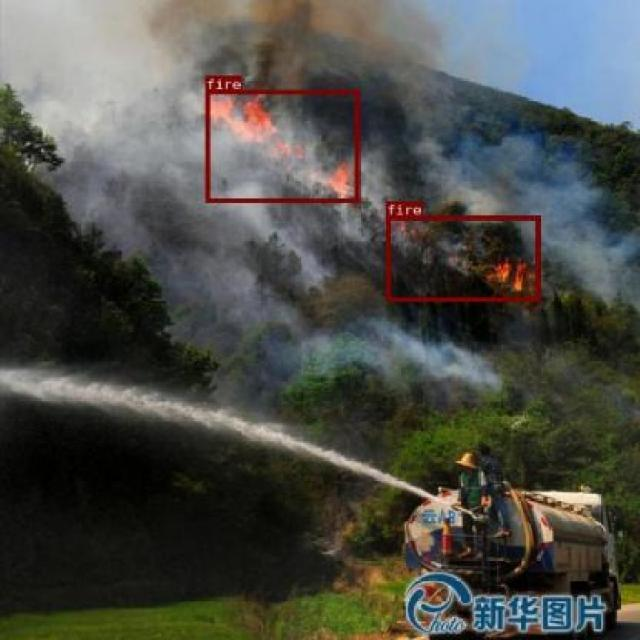Fire: (204, 89, 358, 202), (386, 214, 540, 300)
Smoke: (122, 0, 434, 77), (132, 239, 336, 344), (54, 102, 194, 210), (426, 134, 600, 207)
